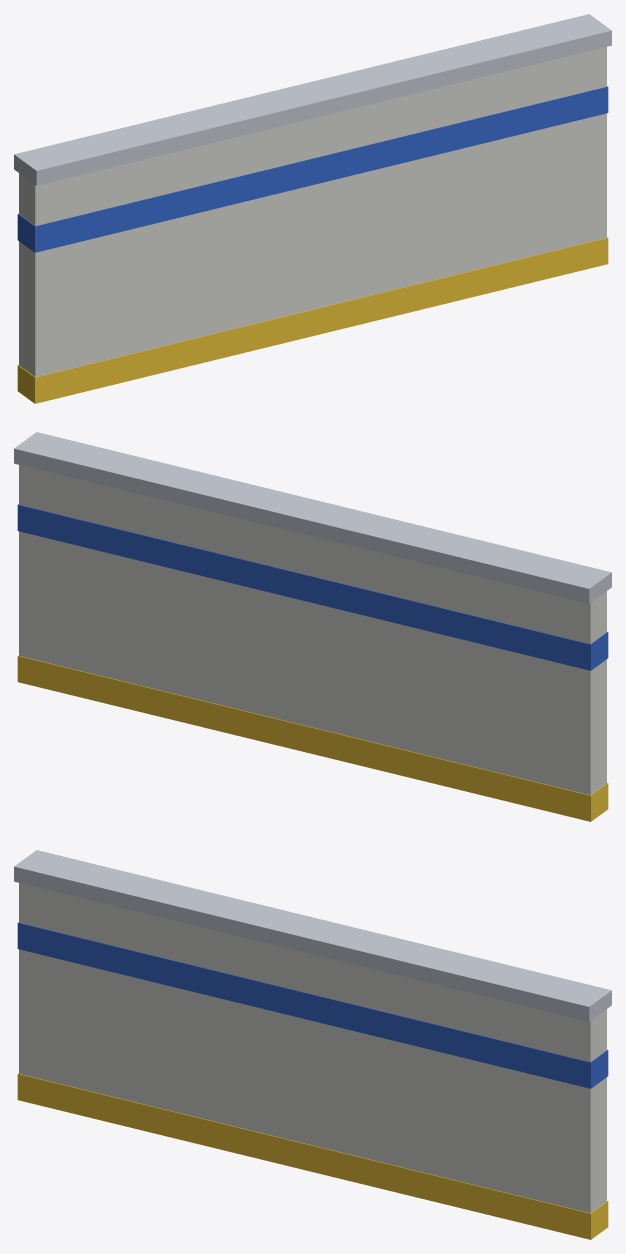
The model's file is RinkBoard.fbx.
3 views of the same model, one above another, from view 1: azimuth 30°, elevation 25°; view 2: azimuth 150°, elevation 25°; view 3: azimuth 330°, elevation 25° (orthographic).
Visible parts, largest first — view 1: Board, Rail, Kickplate, Stripe; view 2: Board, Rail, Kickplate, Stripe; view 3: Board, Rail, Kickplate, Stripe.
Part boxes in pixels (x1=…): Board: x1=19, y1=47, x2=606, y2=377; Rail: x1=14, y1=14, x2=611, y2=185; Kickplate: x1=17, y1=237, x2=608, y2=403; Stripe: x1=17, y1=86, x2=608, y2=252; Board: x1=19, y1=465, x2=606, y2=795; Rail: x1=14, y1=432, x2=611, y2=603; Kickplate: x1=17, y1=655, x2=608, y2=821; Stripe: x1=17, y1=504, x2=608, y2=670; Board: x1=19, y1=883, x2=606, y2=1213; Rail: x1=14, y1=850, x2=611, y2=1021; Kickplate: x1=17, y1=1073, x2=608, y2=1239; Stripe: x1=17, y1=922, x2=608, y2=1088.
Size of the model in its own units: 8.05 by 3.15 by 0.55.
